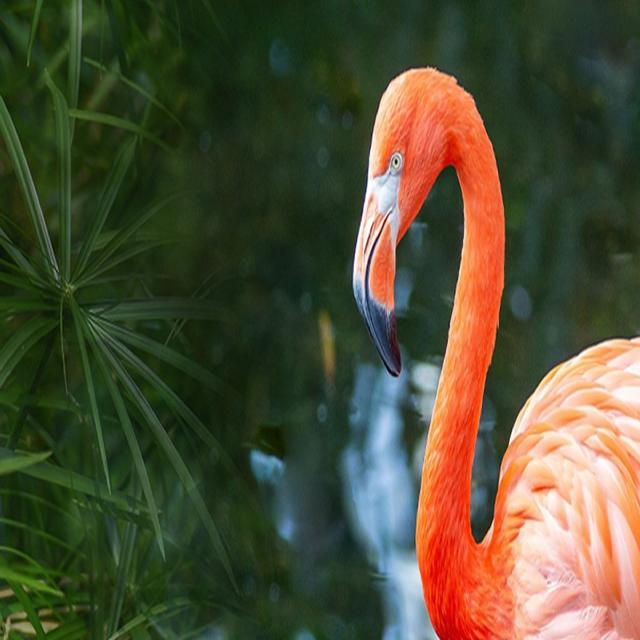Flamingo: (351, 58, 640, 640)
